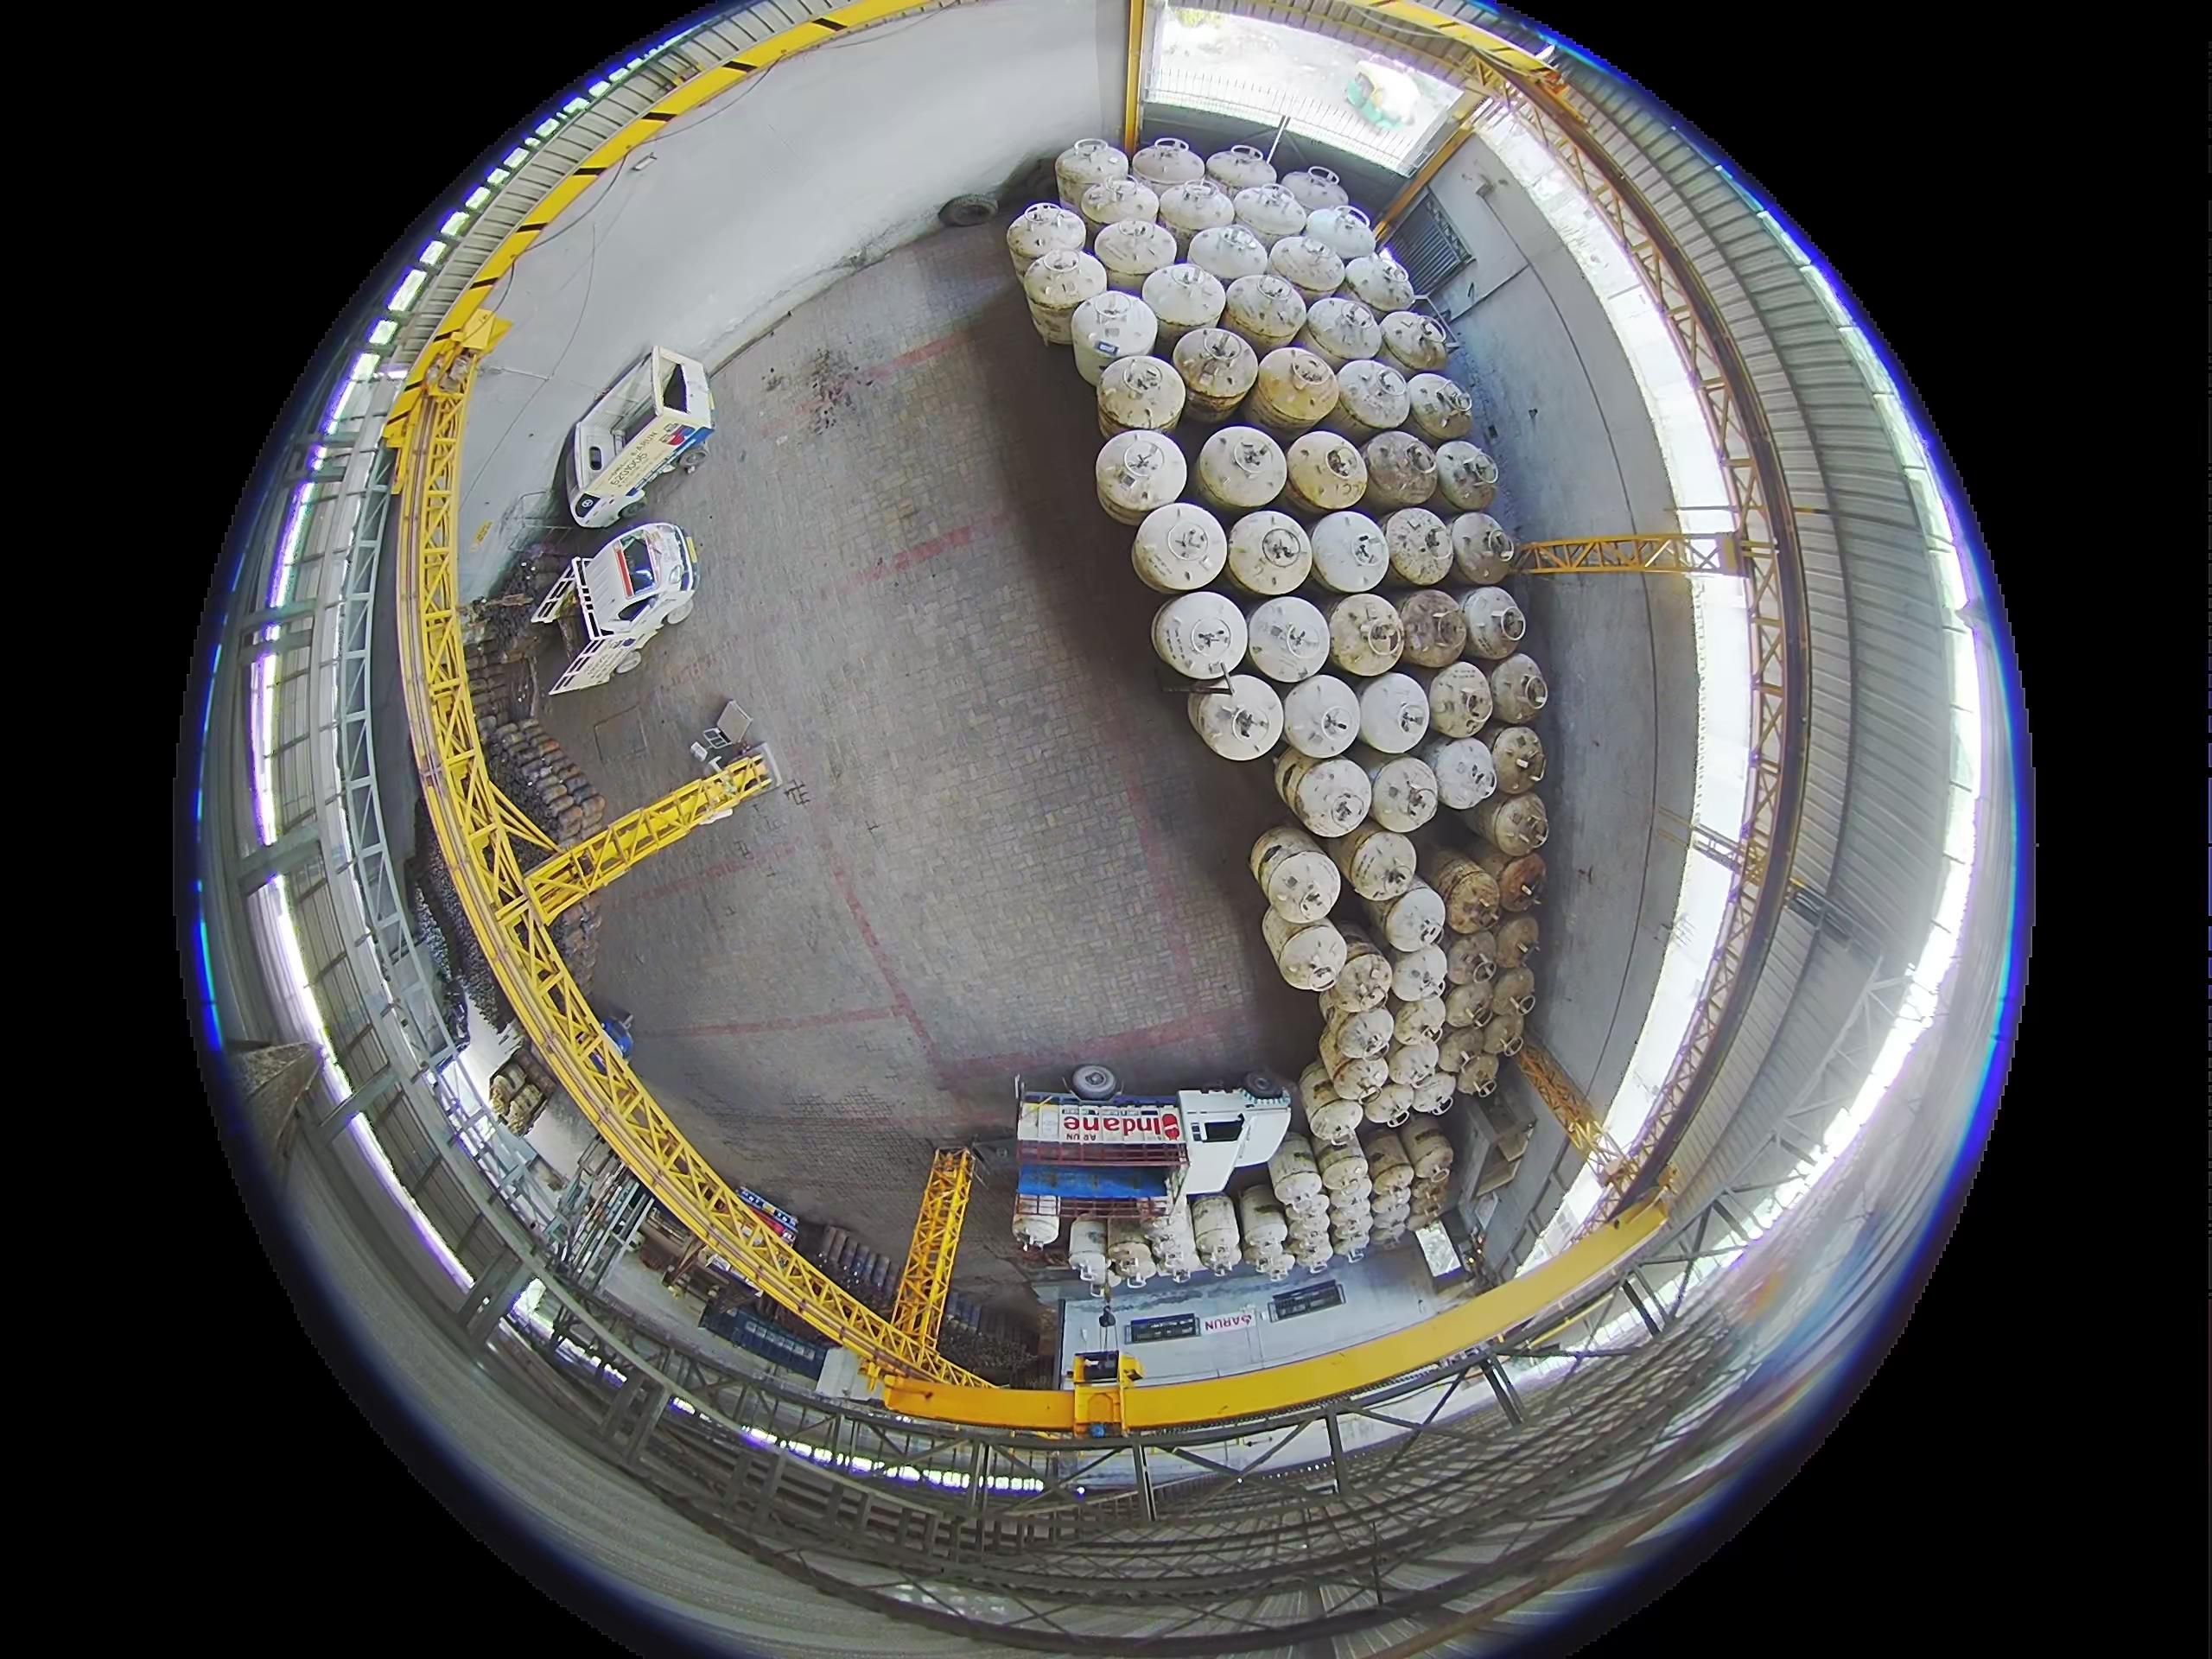cylinder: (1150, 591, 1247, 685), (1096, 429, 1188, 525), (1132, 502, 1224, 594), (1190, 676, 1285, 763), (1198, 425, 1287, 512), (1226, 511, 1315, 598), (1280, 673, 1366, 762), (1069, 289, 1151, 382), (1019, 251, 1099, 345), (1247, 596, 1332, 683), (1172, 324, 1258, 410), (1254, 347, 1341, 430), (1285, 430, 1369, 516), (1310, 509, 1392, 594), (1289, 755, 1374, 836), (1099, 354, 1183, 436), (1325, 592, 1407, 676), (1338, 821, 1420, 904), (1221, 272, 1306, 350), (1258, 843, 1343, 922), (1430, 850, 1507, 936), (1355, 673, 1432, 756), (1362, 430, 1439, 512), (1141, 261, 1224, 335), (1332, 355, 1411, 432), (1383, 507, 1458, 587), (1395, 589, 1470, 669), (1301, 295, 1383, 368), (1155, 178, 1237, 251), (1367, 755, 1442, 833), (1425, 660, 1498, 741), (1273, 920, 1352, 992), (1094, 218, 1174, 288), (1188, 221, 1271, 288), (1428, 735, 1500, 812), (1007, 202, 1085, 272), (1083, 176, 1162, 244), (1460, 586, 1529, 660), (1379, 878, 1449, 953), (1449, 511, 1519, 584), (1055, 139, 1129, 209), (1268, 234, 1346, 298), (1432, 441, 1501, 512), (1379, 310, 1453, 378), (1301, 204, 1378, 268), (1231, 183, 1308, 247), (1404, 373, 1472, 443), (1324, 941, 1393, 1009), (1146, 1201, 1202, 1284), (1341, 251, 1414, 314), (1130, 139, 1205, 199), (1487, 653, 1550, 723), (1190, 1194, 1244, 1274), (1486, 791, 1550, 857), (1327, 1006, 1395, 1068), (1487, 725, 1548, 795), (1268, 1138, 1325, 1206), (1207, 143, 1278, 197), (1388, 946, 1451, 1007), (1442, 927, 1501, 990), (1327, 1049, 1392, 1107), (1280, 166, 1350, 218), (1238, 1183, 1291, 1253), (1385, 1035, 1444, 1094), (1477, 1094, 1531, 1159), (1493, 852, 1548, 911), (1261, 906, 1315, 967), (1360, 1129, 1411, 1194), (1299, 1060, 1348, 1126), (1388, 997, 1446, 1053), (1402, 1122, 1454, 1183), (1306, 1094, 1366, 1147), (1108, 1236, 1160, 1295), (1273, 749, 1322, 812), (1313, 1138, 1366, 1195), (1442, 978, 1498, 1030), (1325, 1194, 1372, 1255), (1435, 1023, 1487, 1077), (1489, 964, 1538, 1021), (1479, 1009, 1529, 1063), (1493, 915, 1541, 971), (1360, 1082, 1420, 1126), (1285, 1222, 1334, 1272), (1407, 1072, 1456, 1117), (1406, 1185, 1453, 1230), (1456, 1049, 1500, 1096), (1369, 1188, 1413, 1229), (1367, 1213, 1411, 1251)
truck: (529, 523, 700, 694), (557, 347, 716, 526)
